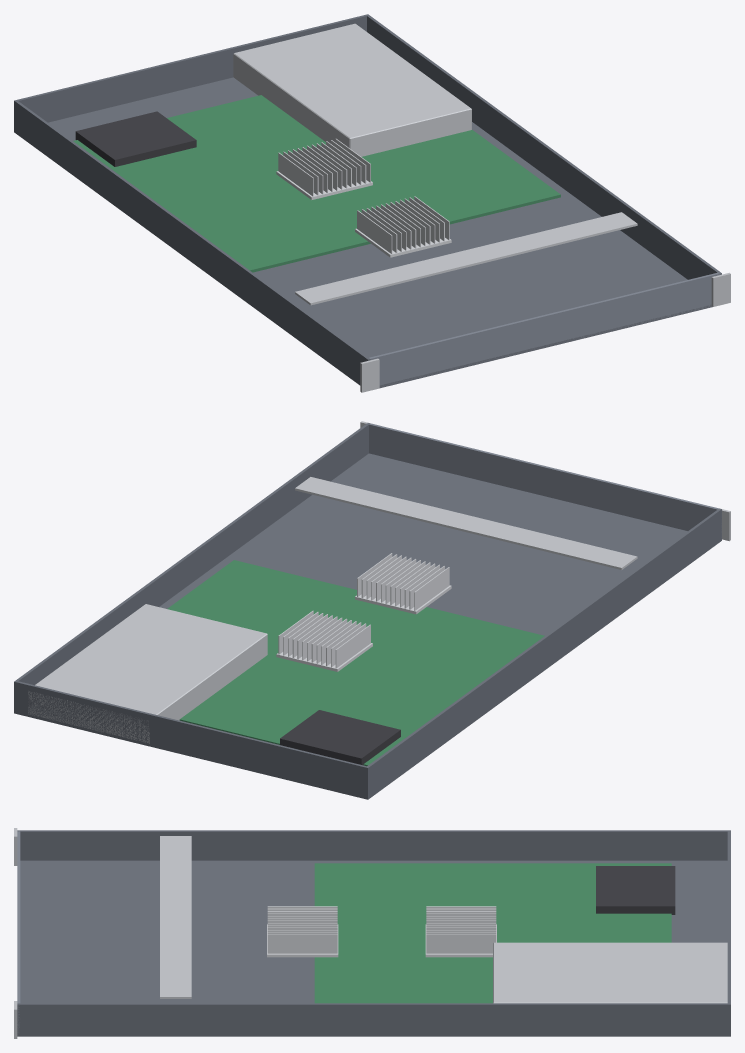
Rendered from open_srv1u.fbx.
The picture shows the model from 3 angles, top to bottom: view 1: azimuth 30°, elevation 25°; view 2: azimuth 150°, elevation 25°; view 3: azimuth 270°, elevation 25°; orthographic projection.
Visible parts, largest first — view 1: Tray, Board; view 2: Tray, Board; view 3: Tray, Board.
Part boxes in pixels (x1,y1,x2,y2): Tray: [14, 14, 730, 392]; Board: [73, 95, 560, 272]; Tray: [14, 421, 730, 799]; Board: [167, 553, 544, 766]; Tray: [14, 828, 730, 1038]; Board: [267, 863, 675, 1003].
Size of the model in its own units: 0.542 by 0.046 by 0.904.
